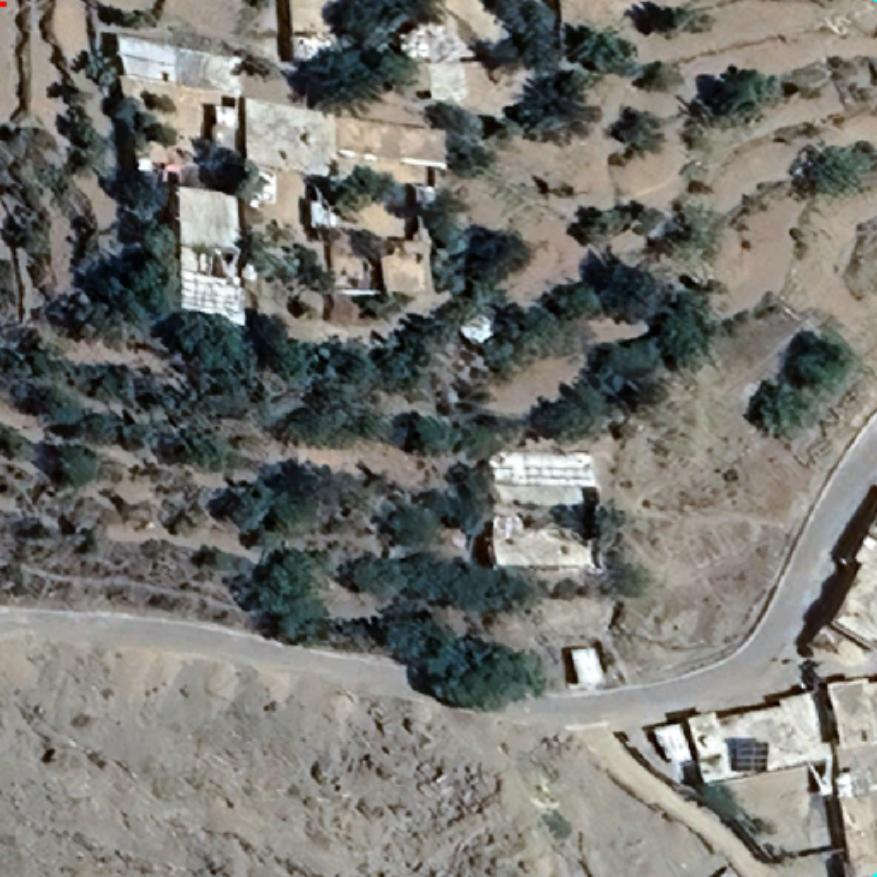Solarpanel: (728, 734, 772, 775)
